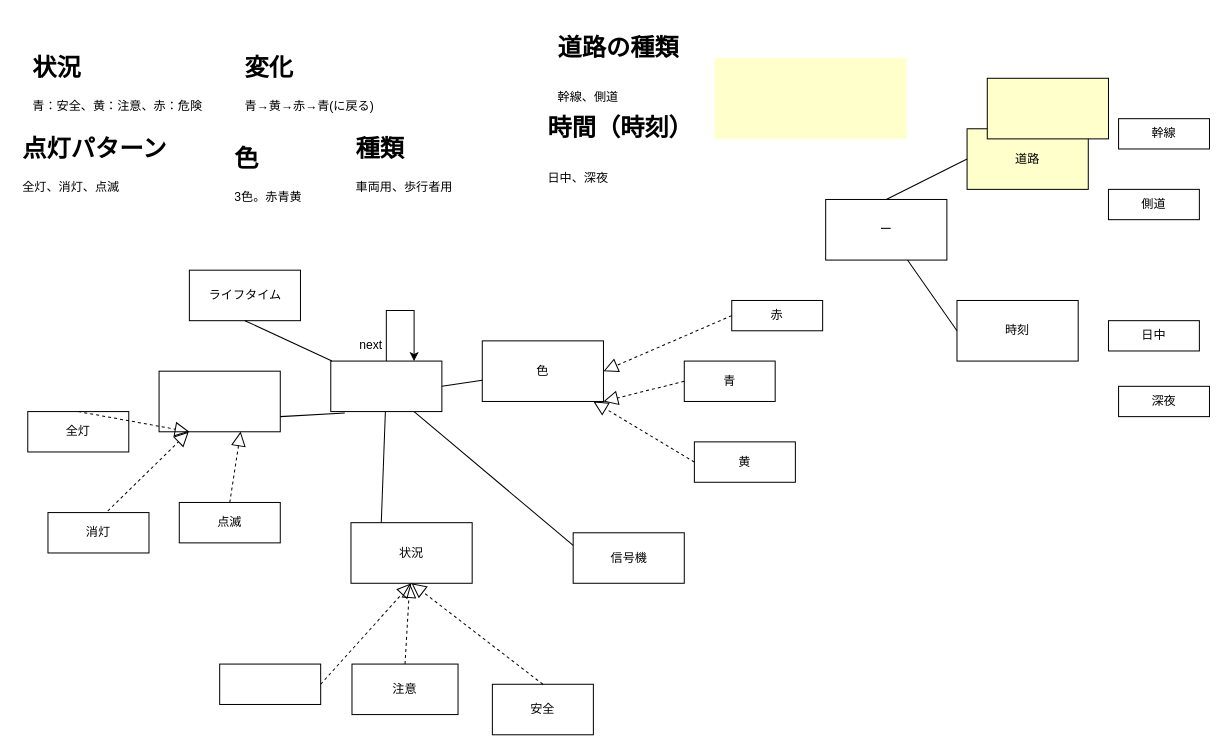
Some shapes in this 1227 by 752 pixel diagram are drawn without their labels. The centre of each missing label's shape, as x and y in pixels:
サイン: the point at 386,386
交通量: the point at 1047,108
危険: the point at 270,683
点灯: the point at 219,401
矢印のやつ 上下左右: the point at 810,98
